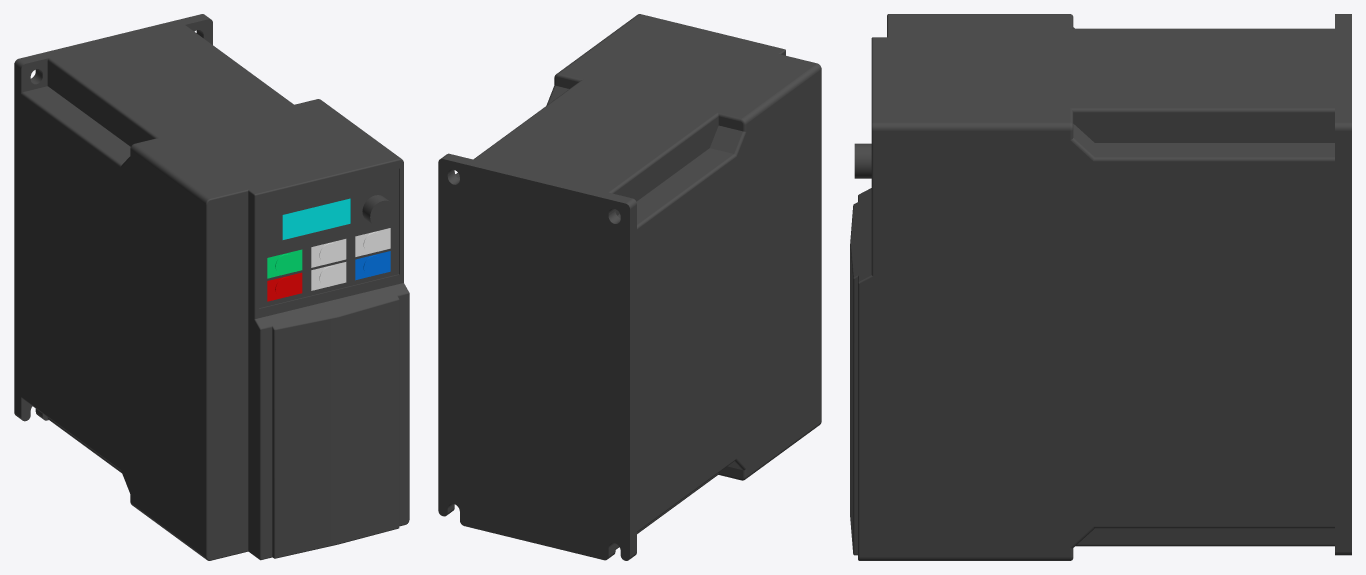
The picture shows the model from 3 angles, left to right: view 1: azimuth 30°, elevation 25°; view 2: azimuth 150°, elevation 25°; view 3: azimuth 270°, elevation 25°; orthographic projection. The views are drawn at different scales.
Parts seen in each view (by area): view 1: F200366IE3_1; view 2: F200366IE3_1; view 3: F200366IE3_1.
Part boxes in pixels (box(x1,y1,x2,y2)): F200366IE3_1: box(14, 14, 409, 560); F200366IE3_1: box(438, 14, 821, 560); F200366IE3_1: box(850, 14, 1351, 560).
Size of the model in its own units: 87 by 157 by 163.
